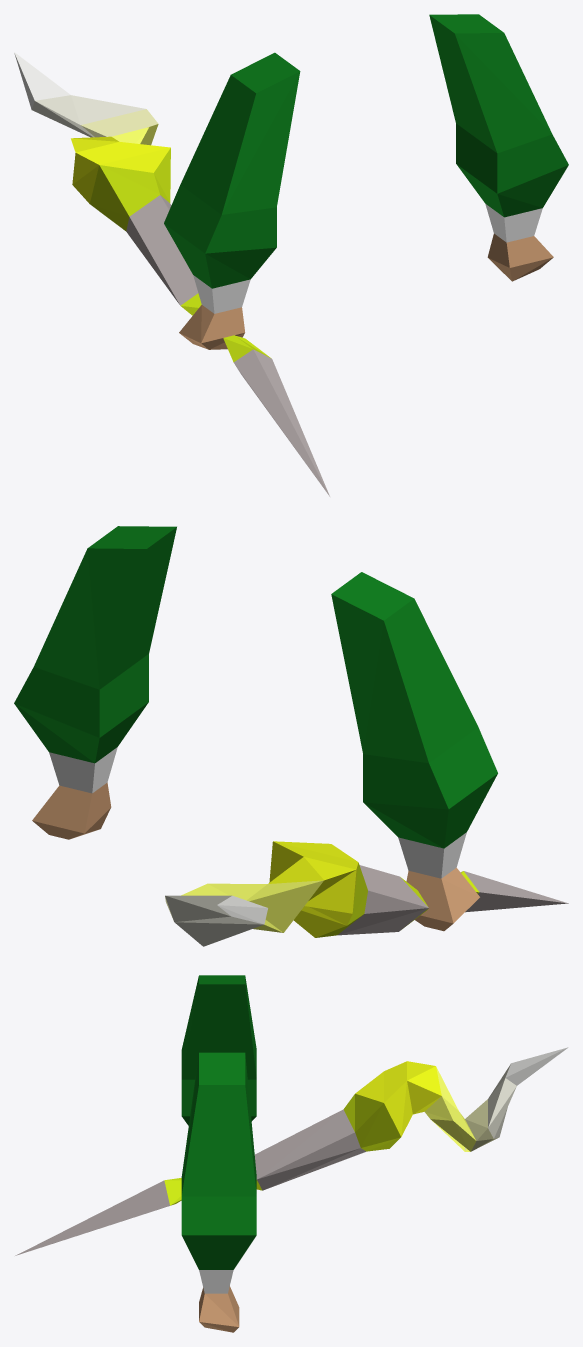
Rendered from npc_world_battle_mage_3_2.obj.
3 renders of one model, top to bottom at view 1: azimuth 30°, elevation 25°; view 2: azimuth 150°, elevation 25°; view 3: azimuth 270°, elevation 25°, orthographic. The views are drawn at different scales.
Bounding box in the file's own units: 0.5234 × 0.4531 × 0.75.
